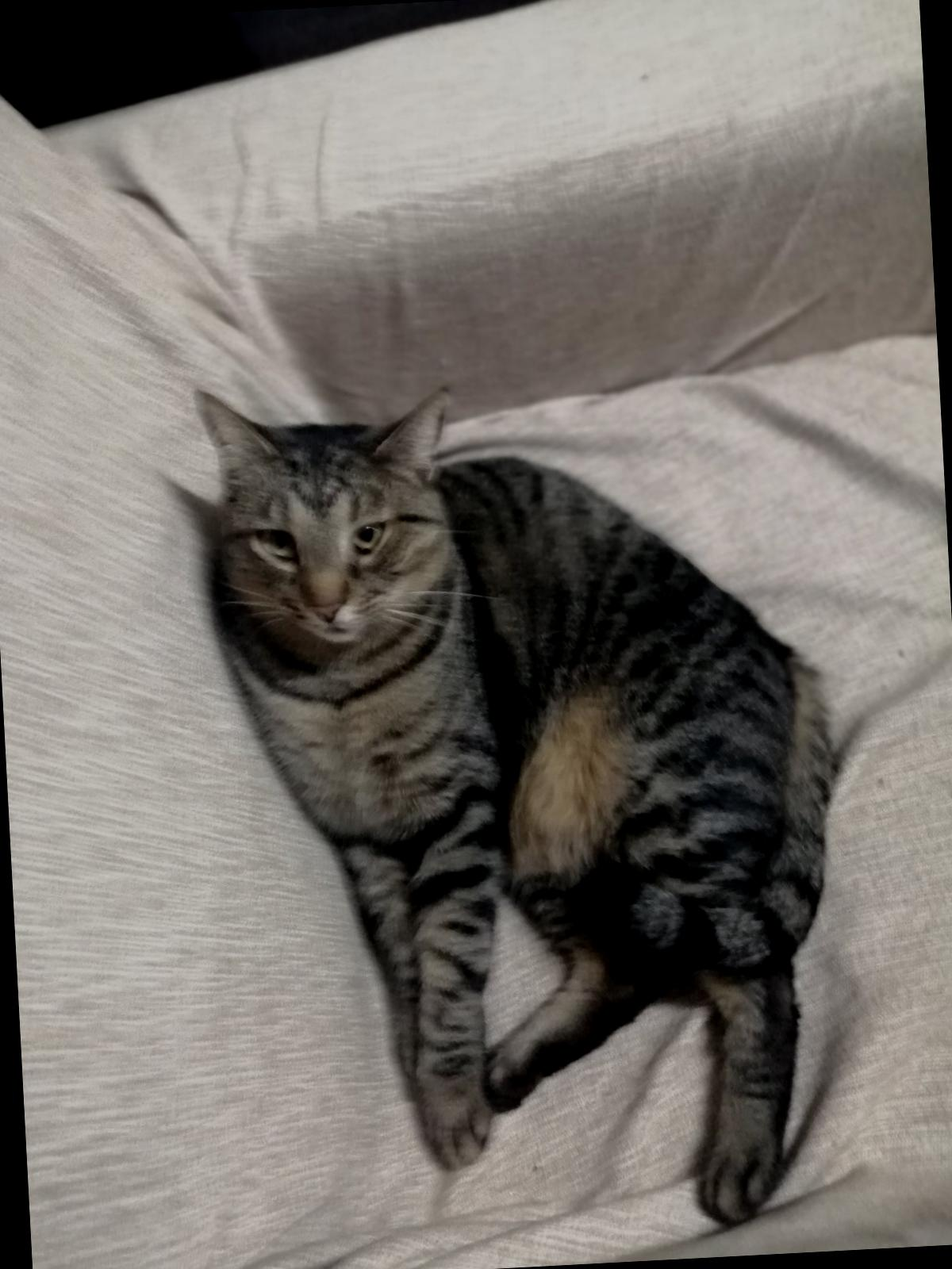macka: (188, 359, 858, 1252)
